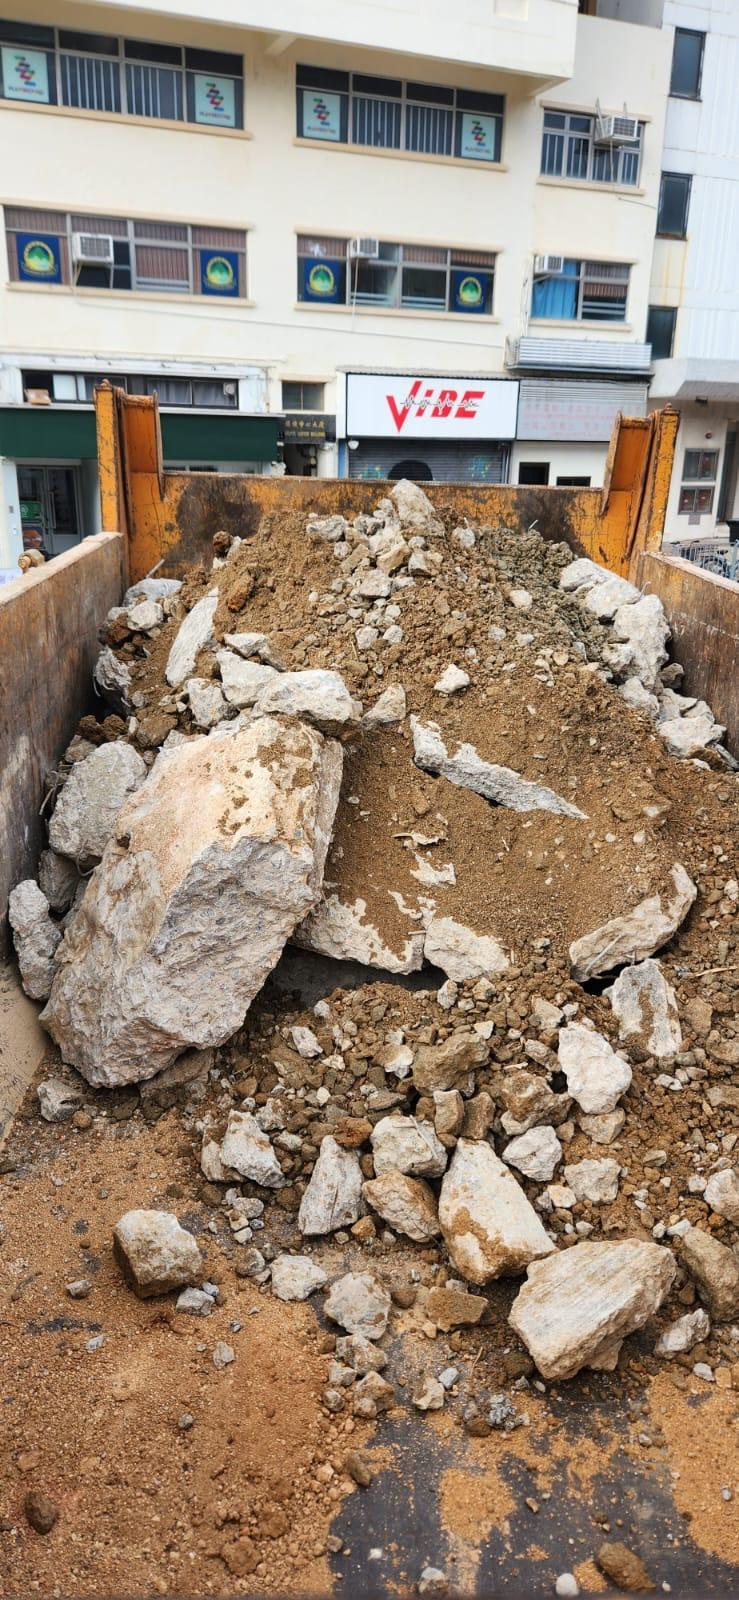dry: (115, 522, 738, 1278)
